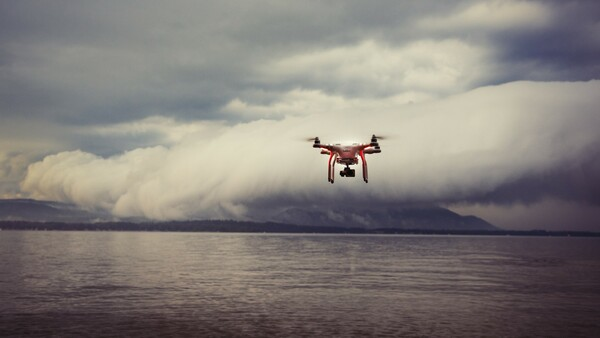drone: (303, 133, 390, 186)
